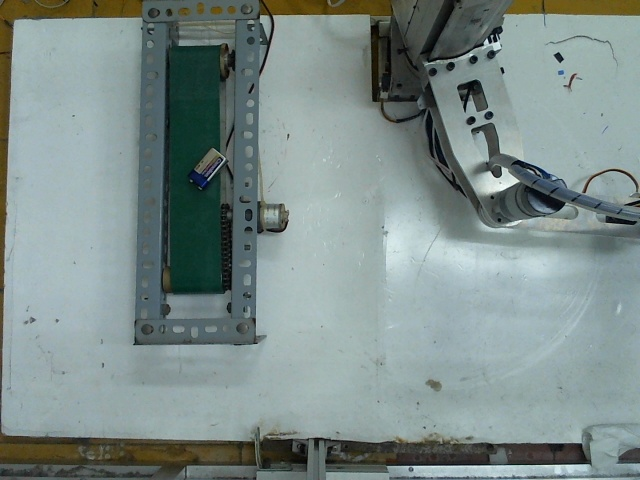battery: (185, 145, 228, 187)
